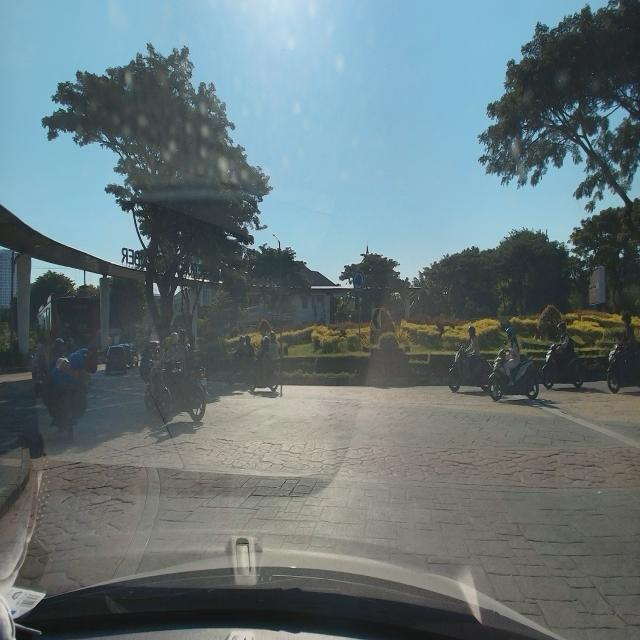bus: (35, 287, 99, 382)
